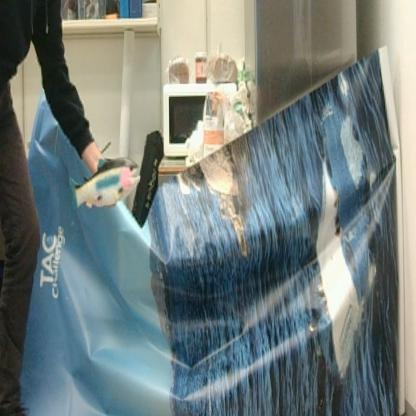rubberfish: (67, 150, 143, 218)
